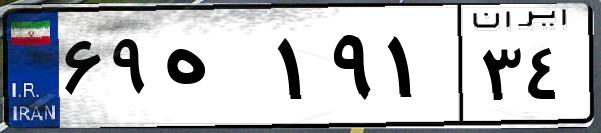1: (270, 28, 330, 110), (385, 28, 445, 110)
3: (475, 38, 525, 113)
4: (525, 38, 570, 115)
6: (57, 26, 110, 100)
9: (330, 28, 385, 110), (110, 28, 158, 98)
ه: (158, 20, 270, 120)
